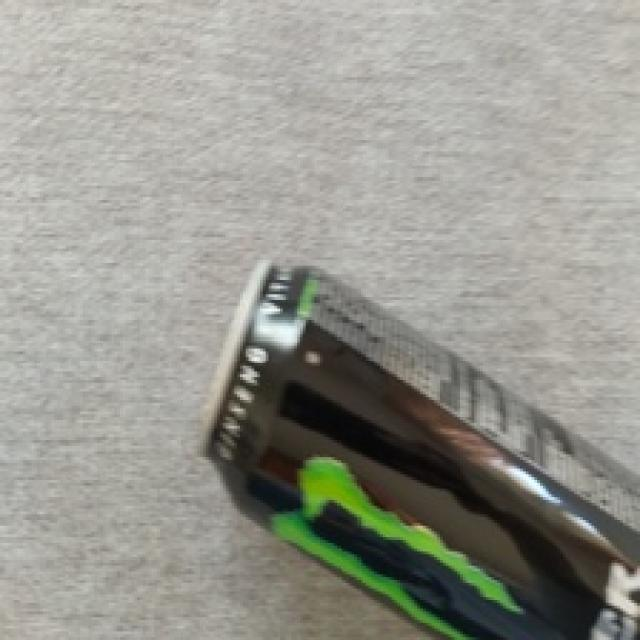recyclable: (195, 257, 640, 640)
